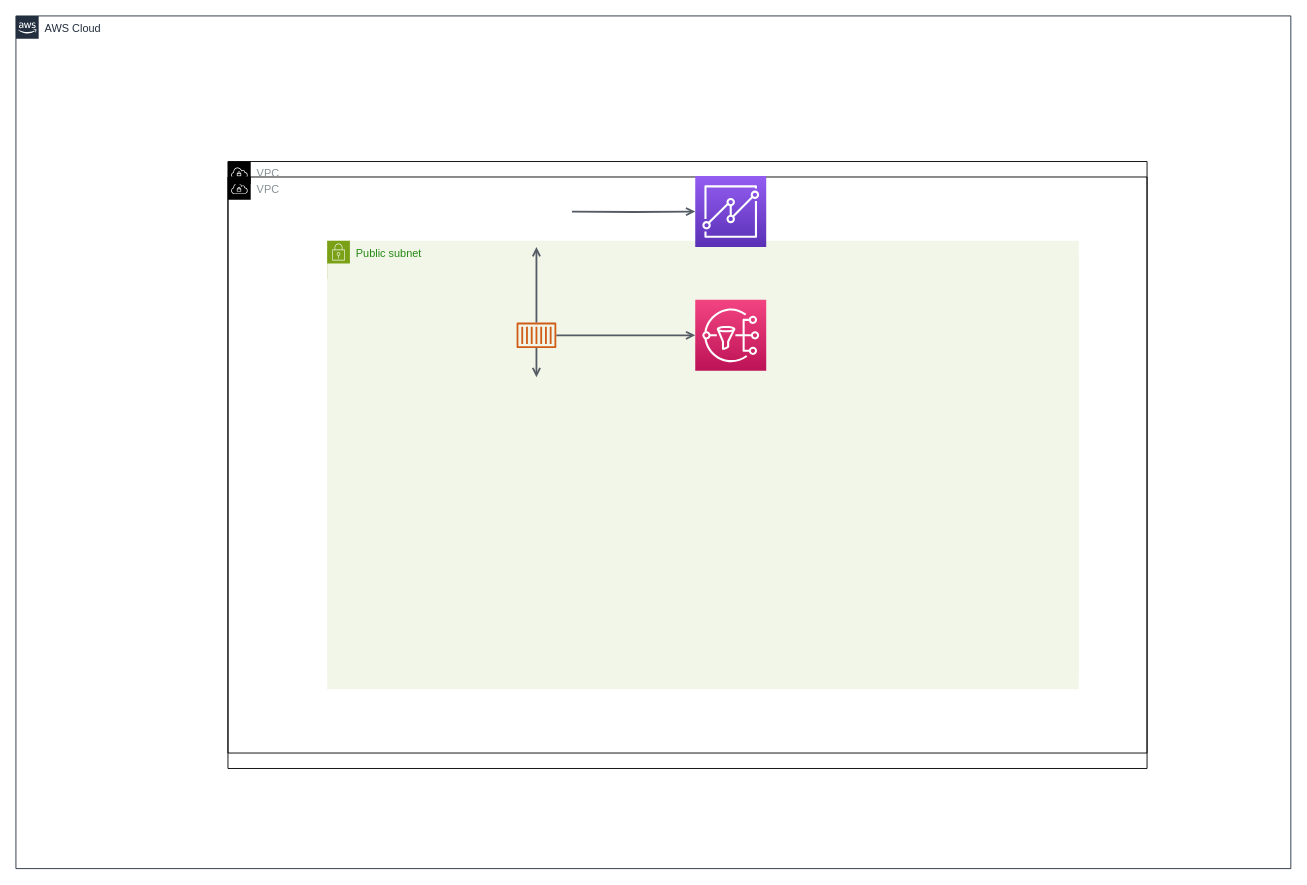
Image size: 1307x885. Some labels were removed from this diagram. The box of each missing label's shape, as (x1, y1, x2, y2) in pixels:
Amazon QuickSight: (694, 175, 766, 247)
Amazon SNS: (694, 299, 766, 371)
docker container: (516, 322, 556, 348)
